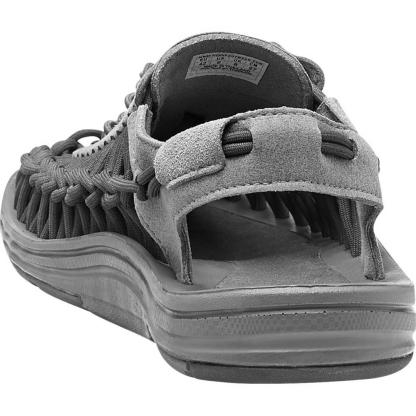ankle: (135, 118, 146, 139)
heel: (305, 352, 322, 373)
pinky: (91, 132, 107, 142)
right_foot: (3, 41, 416, 384)
toe: (5, 197, 21, 208)
